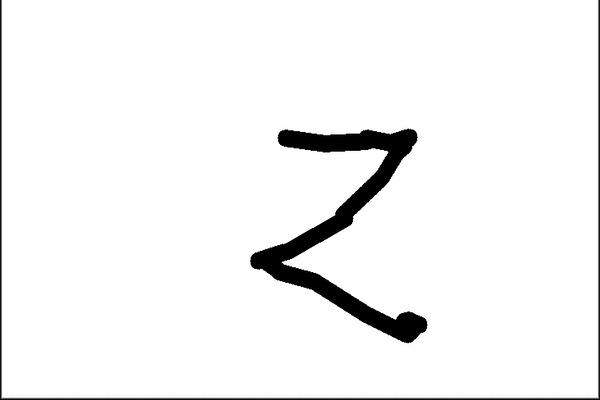Z: (234, 109, 438, 351)
